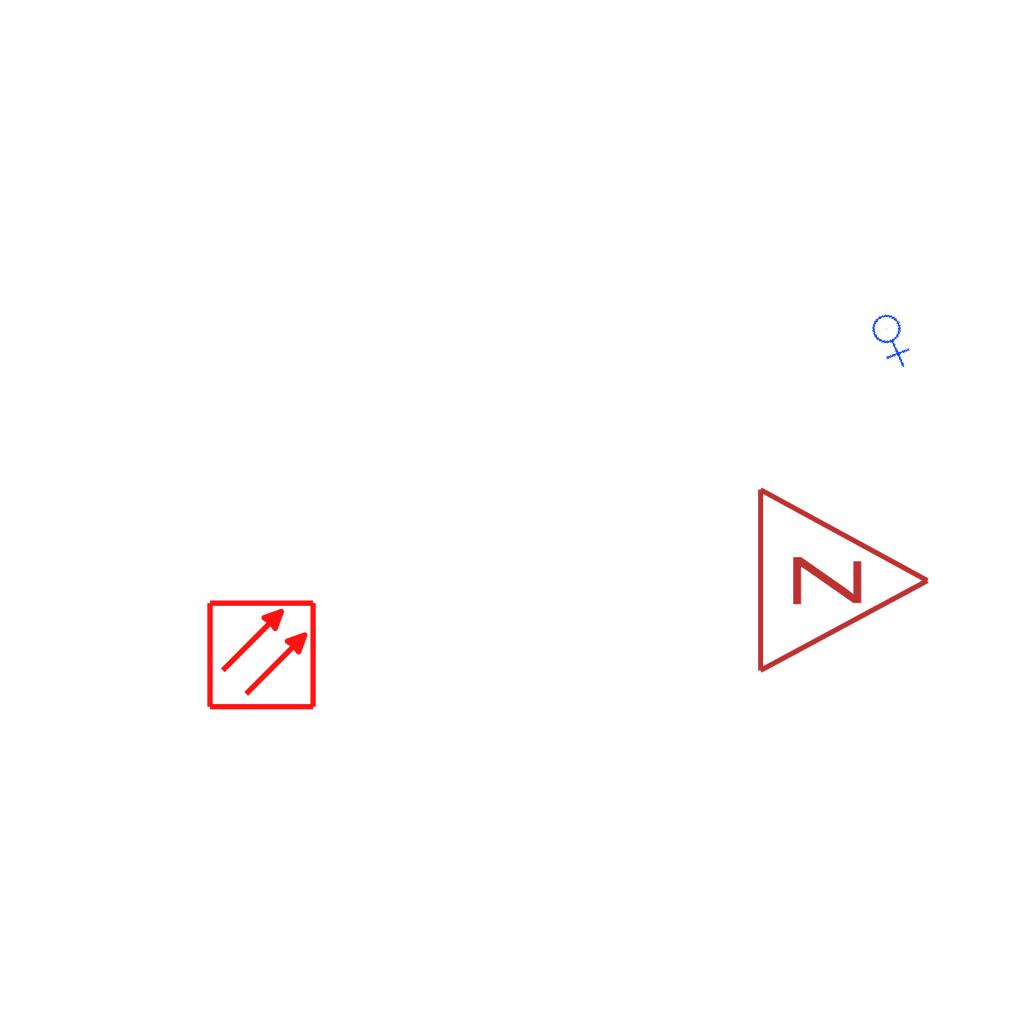Elektroanschluss_allgemein_230V_Geraeteanschlussdose_230V: (862, 306, 923, 369)
RMO_Rauchmelder_optischer: (205, 598, 318, 711)
Zimmersignalleuchte: (743, 480, 943, 676)
